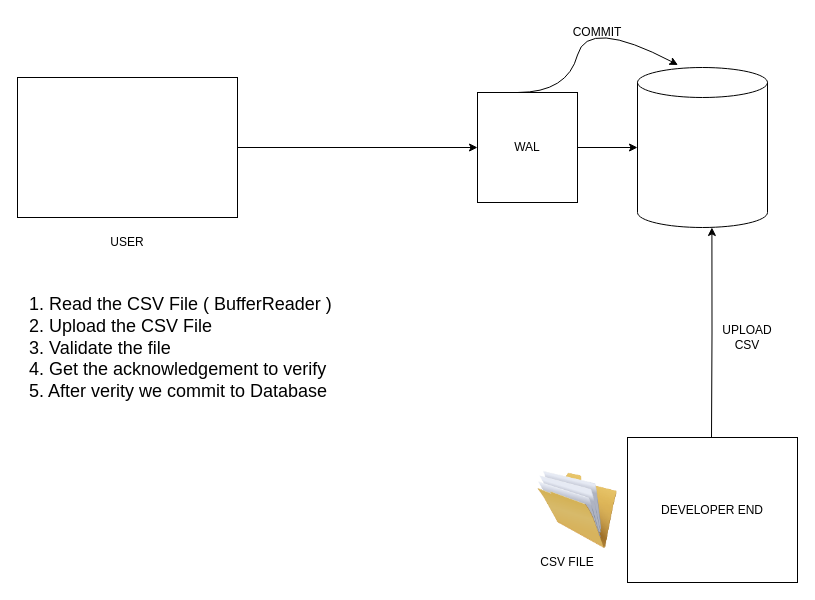
Image size: 815x600. Some labels were removed from this diagram. The centre of each missing label's shape, as x and y in pixels:
"APPLICATION" belongs at point 127,147.
"DATABASE" belongs at point 702,147.
